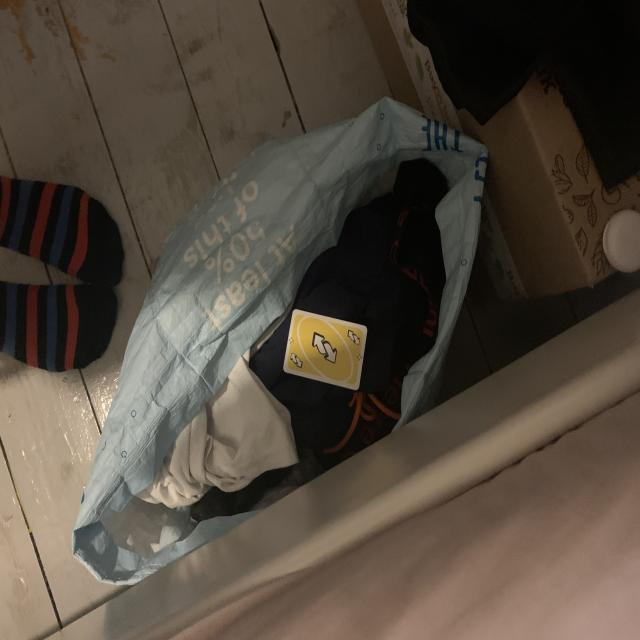lyellowrevers-20: (288, 350, 305, 371)
